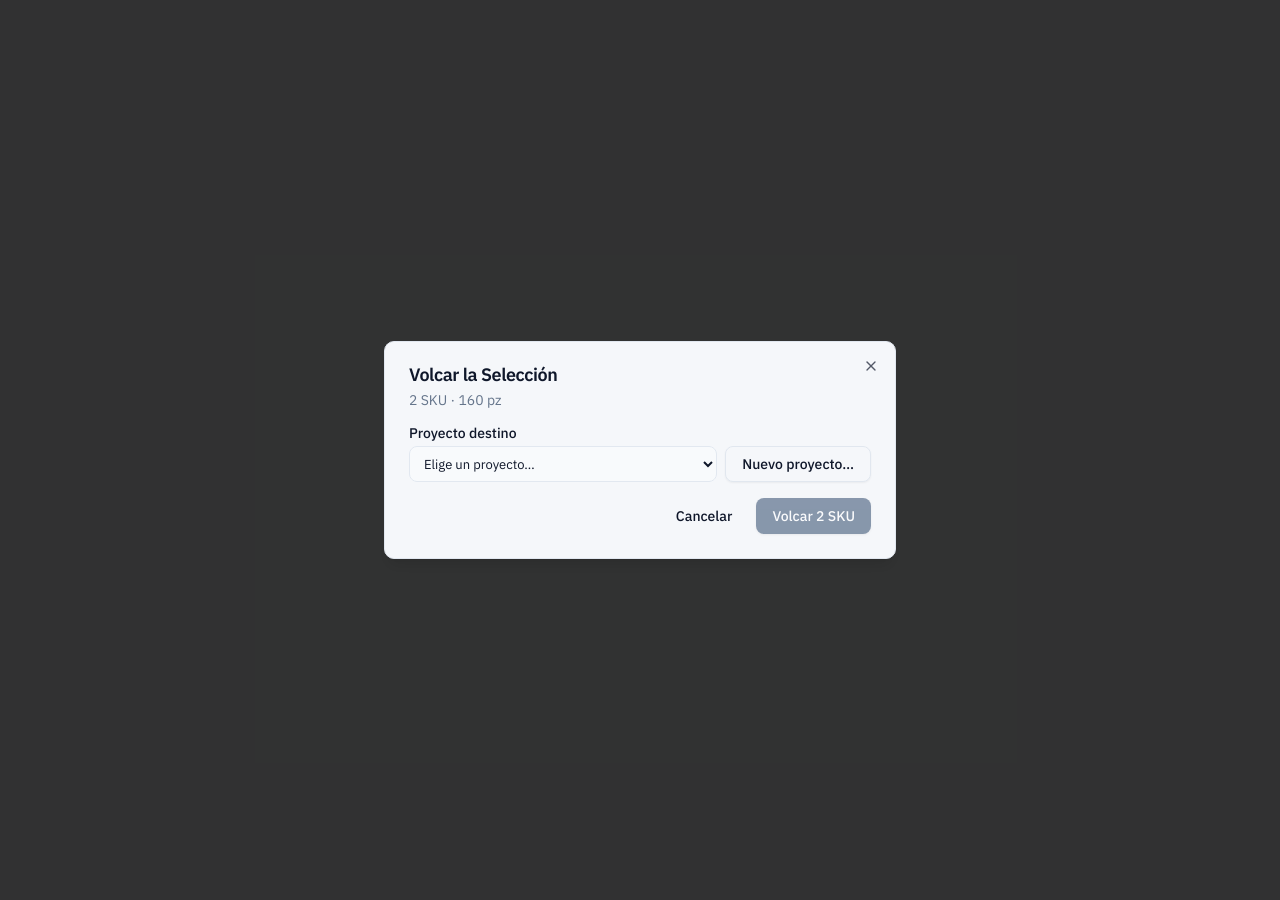
it: [INV-B8.2] VolcarDialog › un reintento se DICE, no se esconde
This screenshot has width=1280, height=900.
Select "PRJ-050 · Rollout Norte" in the dropdown labelled "Proyecto destino". click: point(563, 464)
box: [409,446,717,482]
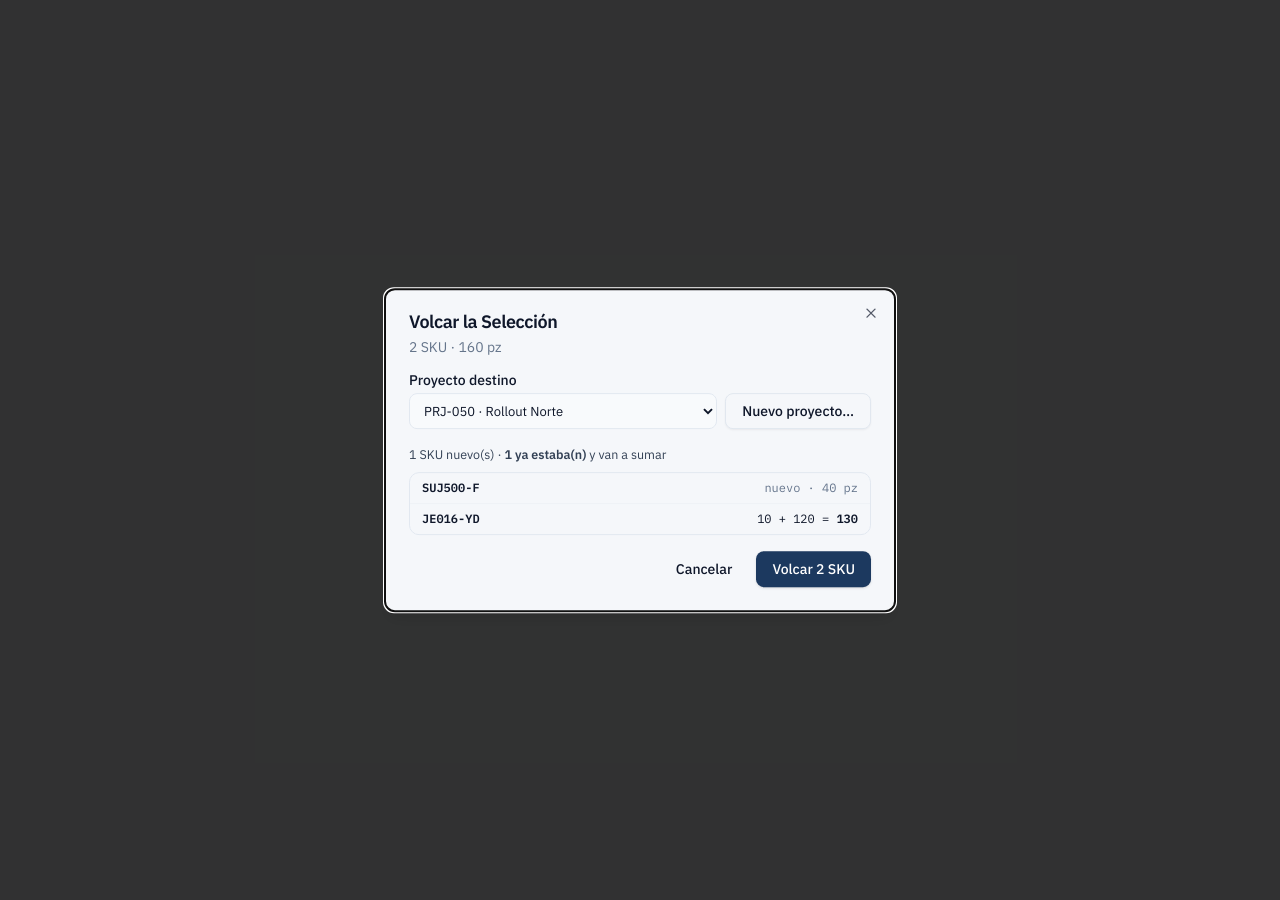
Expected: the button "Volcar 2 SKU" is enabled
Click the button "Volcar 2 SKU". click: point(814, 569)
box: [756,551,871,587]
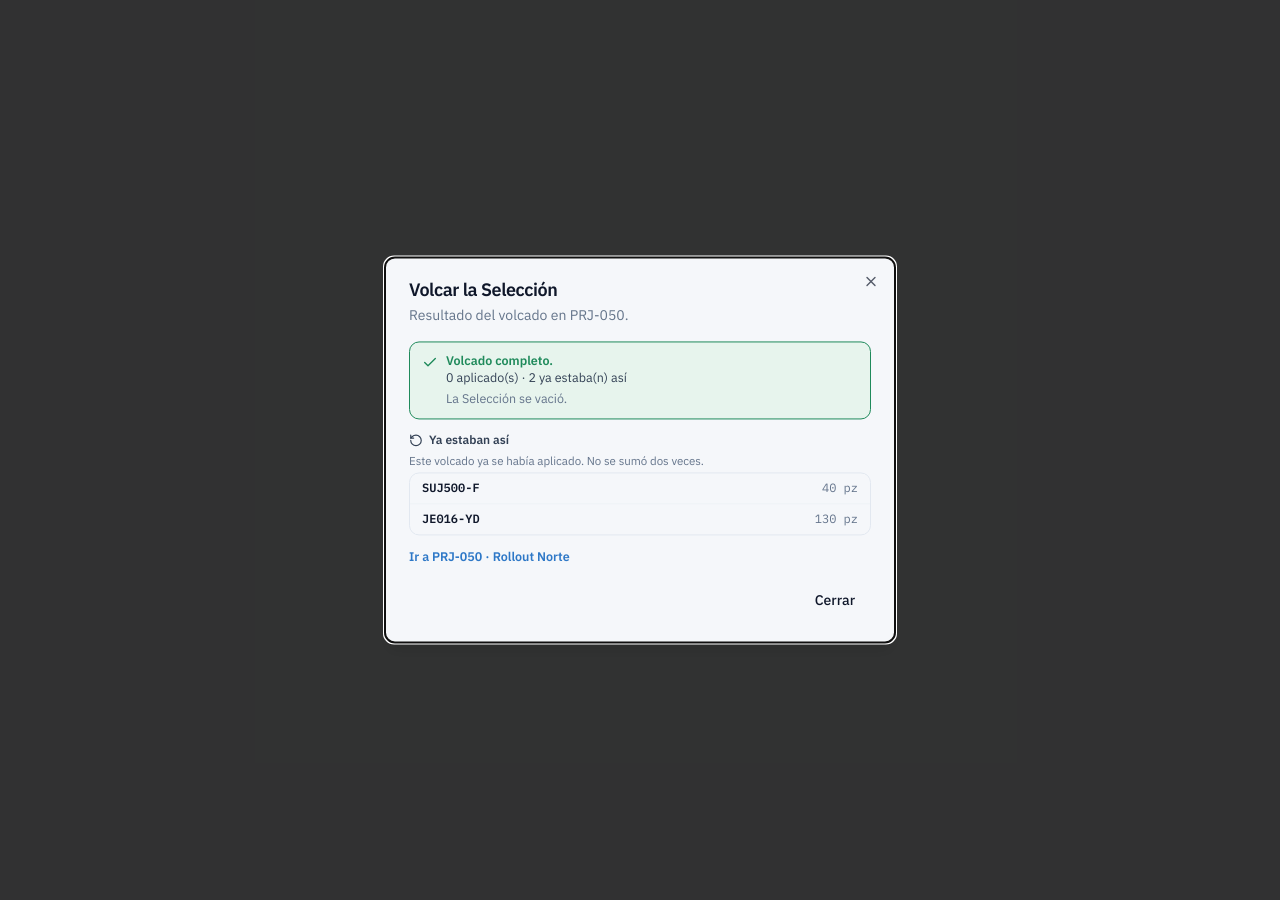
Expected: the text "Ya estaban así" is shown, [409,432,509,447]
Expected: the text "Este volcado ya se había aplicado. No se sumó dos veces." is shown, [409,453,704,468]
